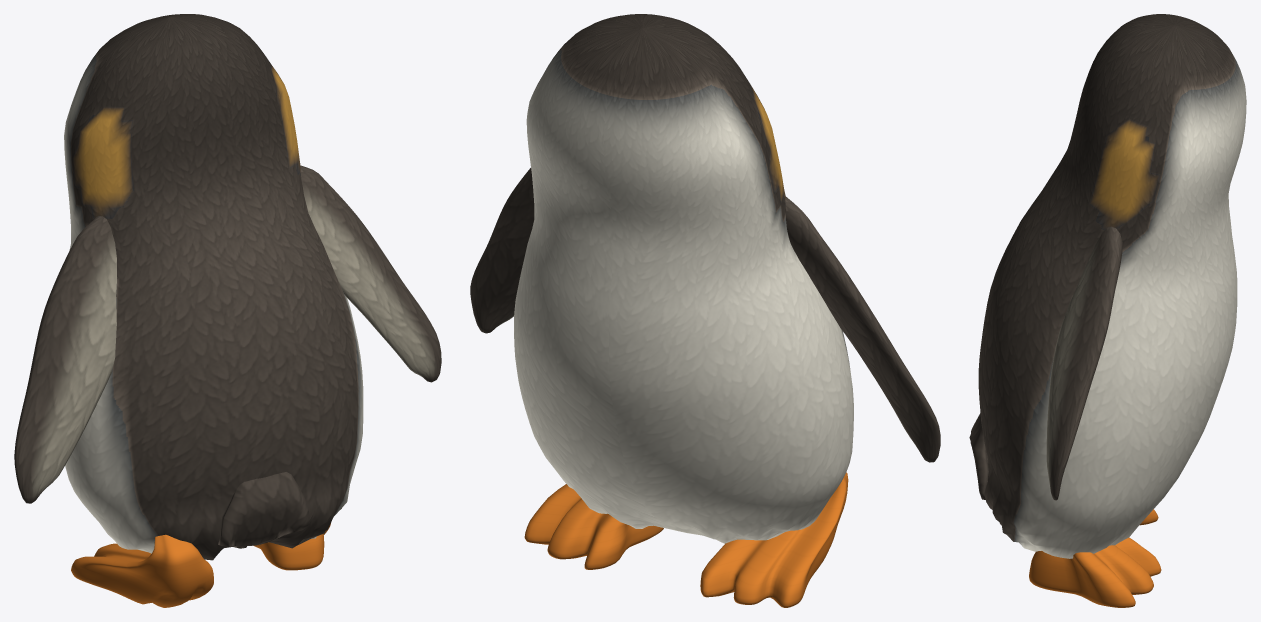
File: preserved_normals_c380.glb
3 views of the same model, side by side, from view 1: azimuth 30°, elevation 25°; view 2: azimuth 150°, elevation 25°; view 3: azimuth 270°, elevation 25° (orthographic). The views are drawn at different scales.
Visible parts, largest first — view 1: RearBlockout; view 2: RearBlockout; view 3: RearBlockout.
Boxes of the visible parts, <box> form: RearBlockout: <box>14,14,441,607</box>; RearBlockout: <box>470,14,940,607</box>; RearBlockout: <box>969,14,1246,607</box>.
Bounding box in the file's own units: 1.46 × 1.69 × 0.8144.
1 material, 1 textured.
